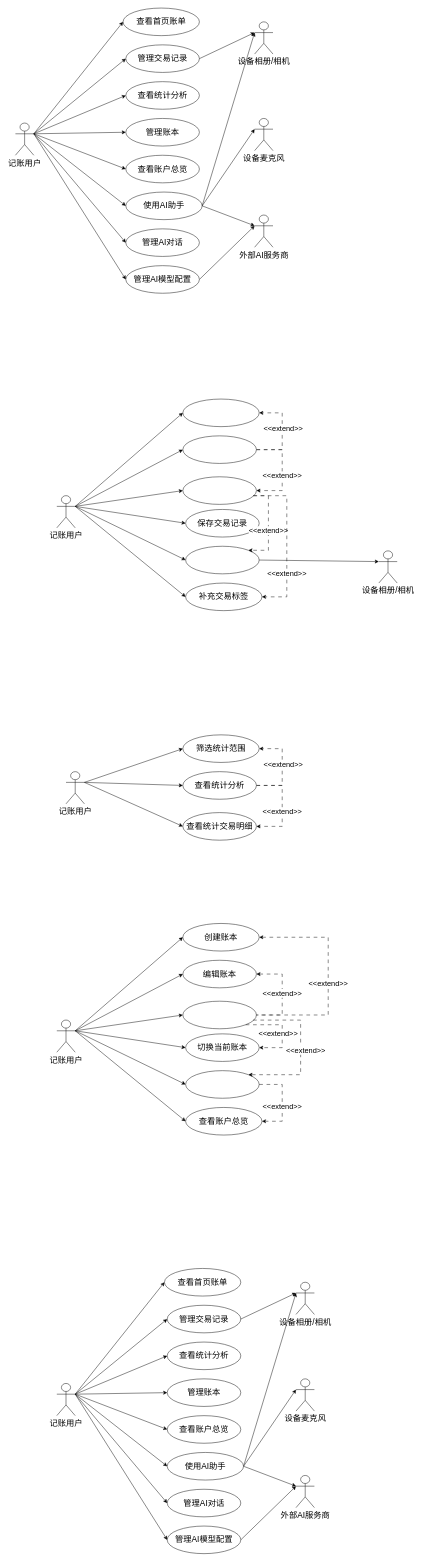
Image size: 422x1562. Some labels were removed from this diagram. Here are the shapes that lost their labels. From the top down, the centre of each, then its label:
the point at 220,413: 删除交易记录
the point at 219,449: 查看交易记录
the point at 219,490: 编辑交易记录
the point at 222,560: 补充交易附件
the point at 219,1015: 查看账本列表
the point at 222,1084: 查看账本仪表盘
